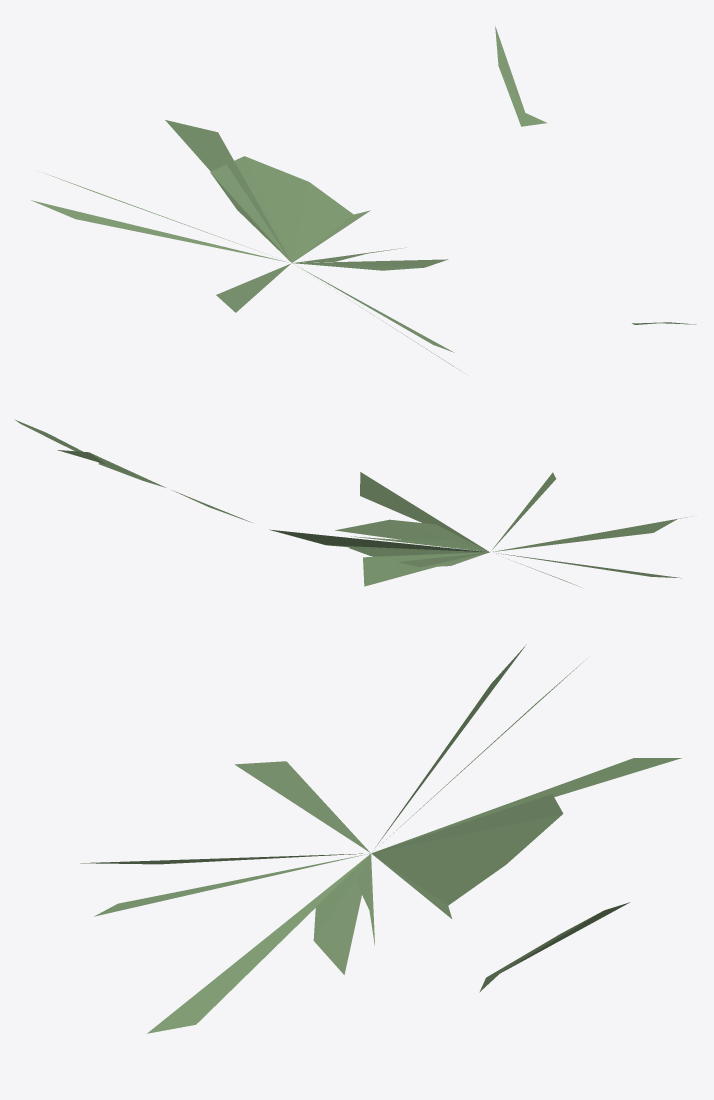
File: c_1665_17815_parks.glb
3 renders of one model, top to bottom at view 1: azimuth 30°, elevation 25°; view 2: azimuth 150°, elevation 25°; view 3: azimuth 270°, elevation 25°, orthographic. The views are drawn at different scales.
Parts seen in each view (by area): view 1: geometry_0; view 2: geometry_0; view 3: geometry_0.
Boxes of the visible parts, x1,y1,x2,y2 form: geometry_0: [31, 26, 696, 370]; geometry_0: [14, 419, 691, 587]; geometry_0: [80, 644, 681, 1033].
Size of the model in its own units: 250 by 67.57 by 211.
